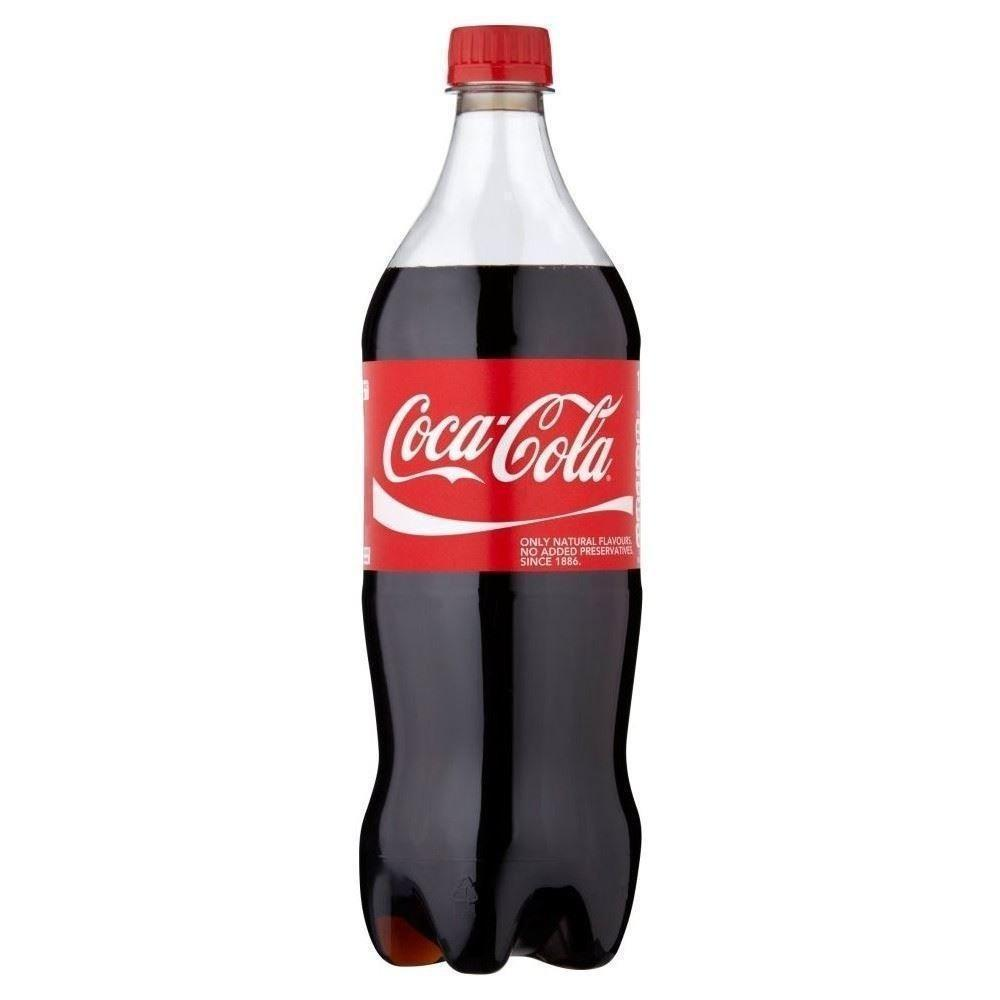bottle-plastic: (350, 11, 651, 989)
